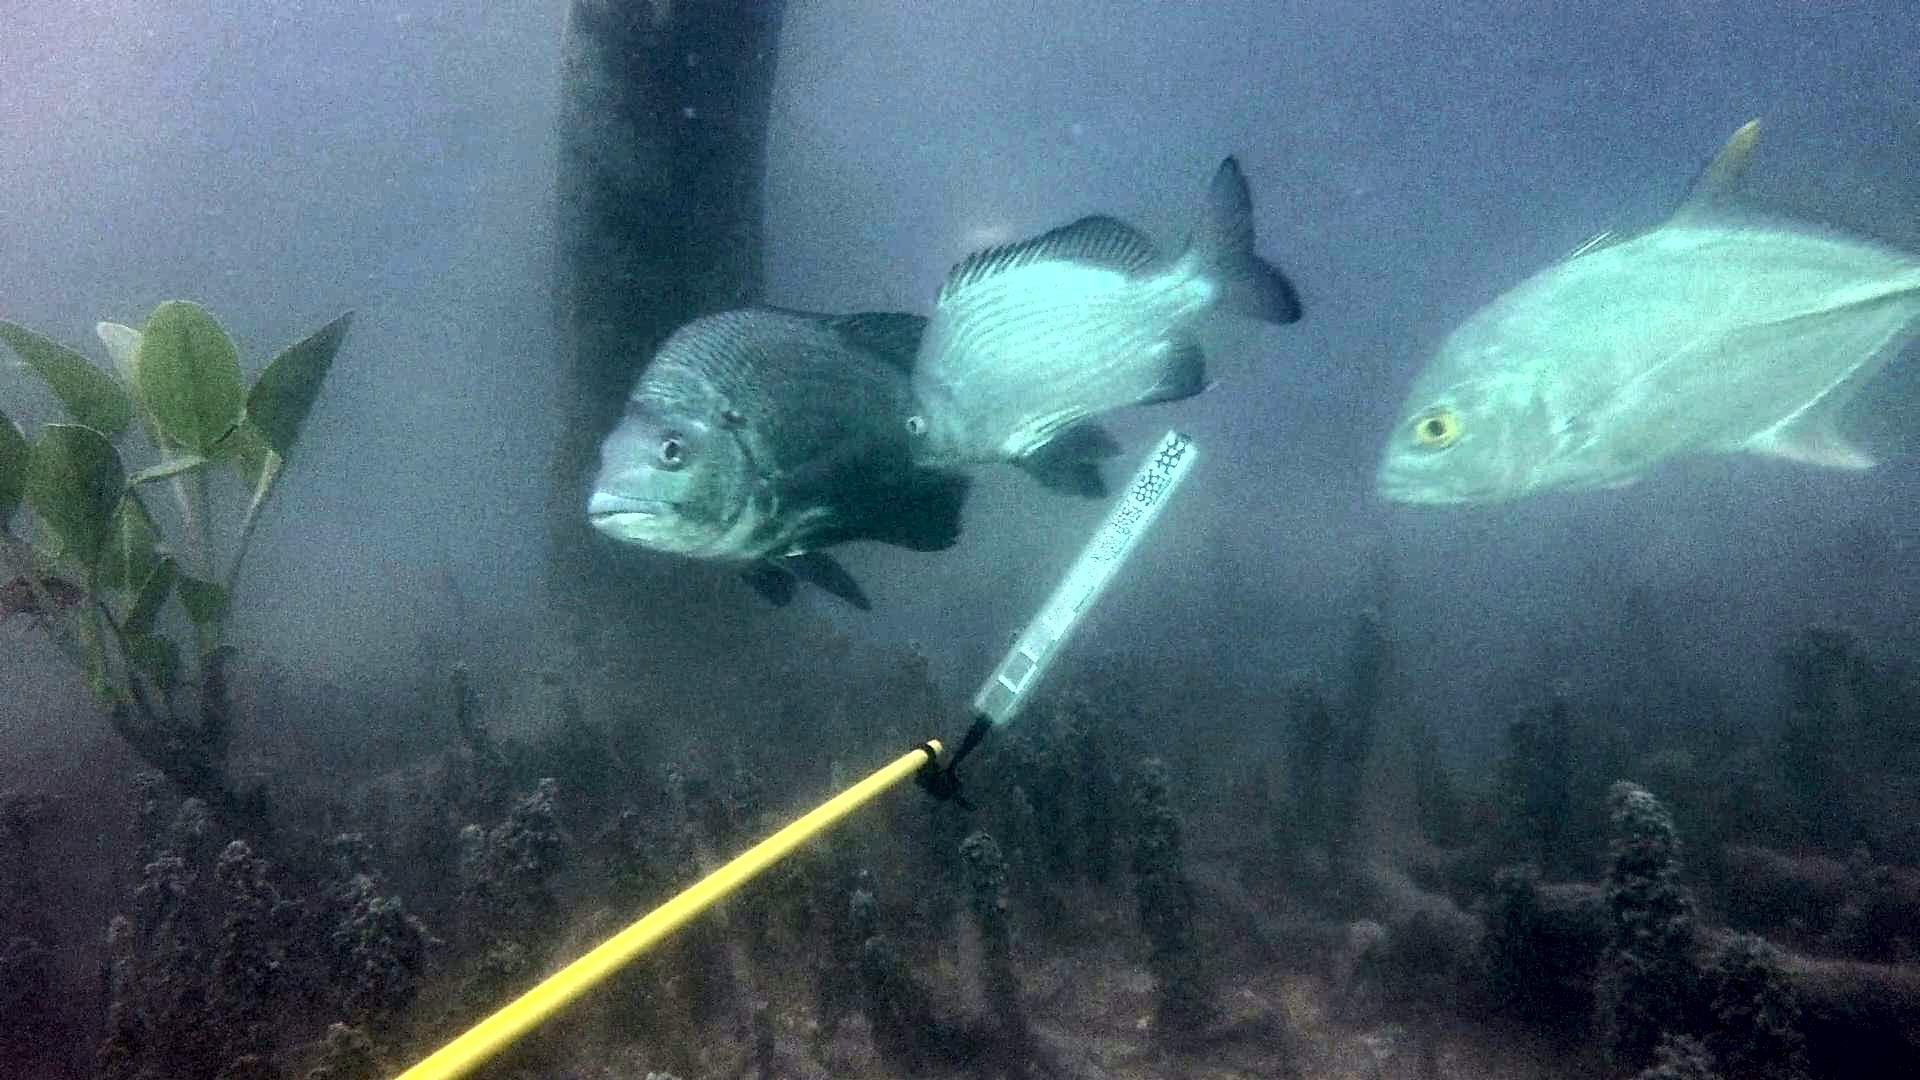acanthopagrus palmaris: (553, 278, 1109, 642), (865, 150, 1326, 515)
caranx: (1372, 108, 1920, 528)
